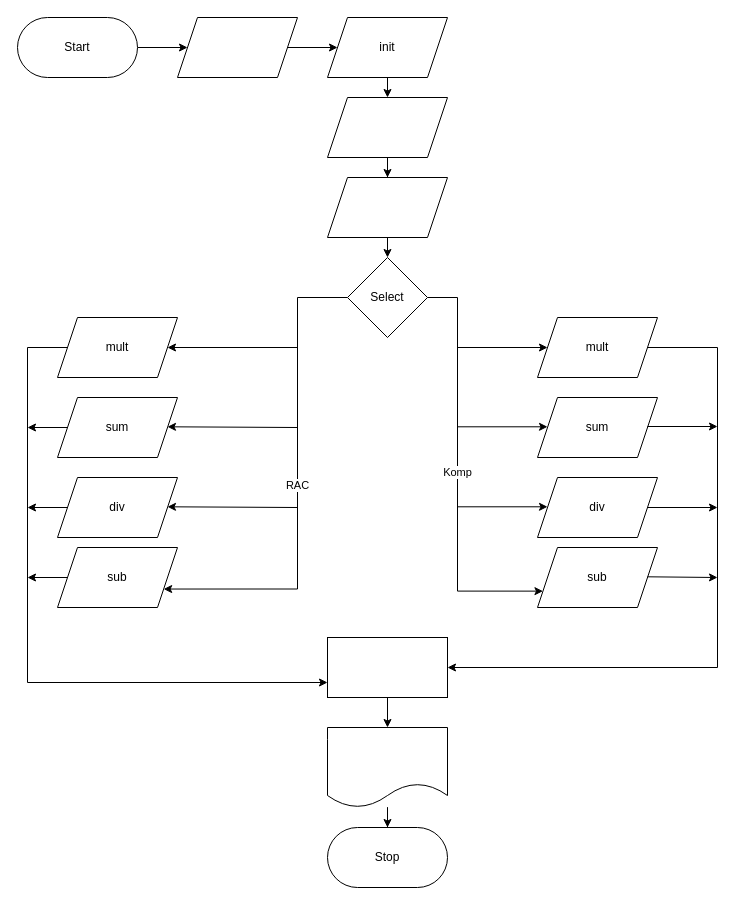
This 743x905 diagram has some shape labels left out. Each missing label, with the centre of its shape:
input: (237,47)
Log: (387,667)
main: (387,207)
Operation/menu: (387,127)
Out: (387,767)
